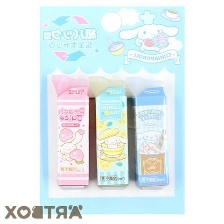carton: (46, 72, 90, 192), (127, 74, 171, 190), (88, 73, 130, 192)
